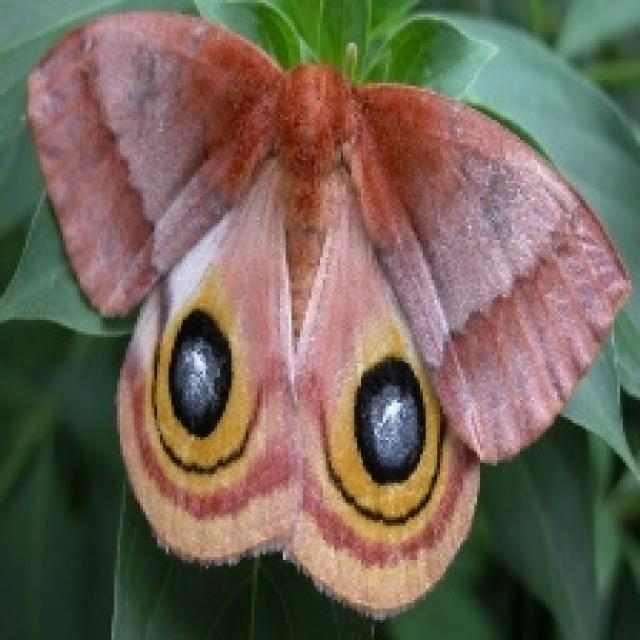butterfly: (20, 0, 631, 620)
